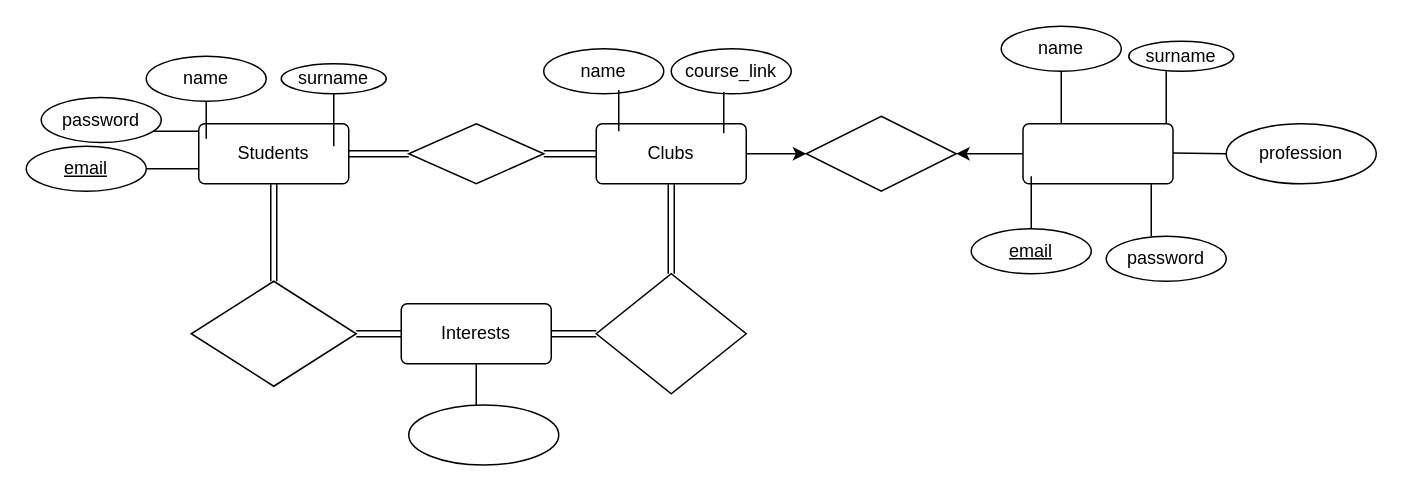
The diagram is 1403 pixels wide and 492 high, and some of its shapes have lost their labels. The shapes that lost their labels are listed below. From the top down, each one's box as (x1, y1, x2, y2) in pixels, then its label:
(407, 122, 544, 184): enrollment
(805, 115, 956, 191): instructorsClub
(1022, 122, 1173, 184): Instructors
(190, 280, 356, 386): studentsInterests
(595, 272, 746, 394): interestsClubs
(407, 404, 559, 465): Set(yoga,...)
